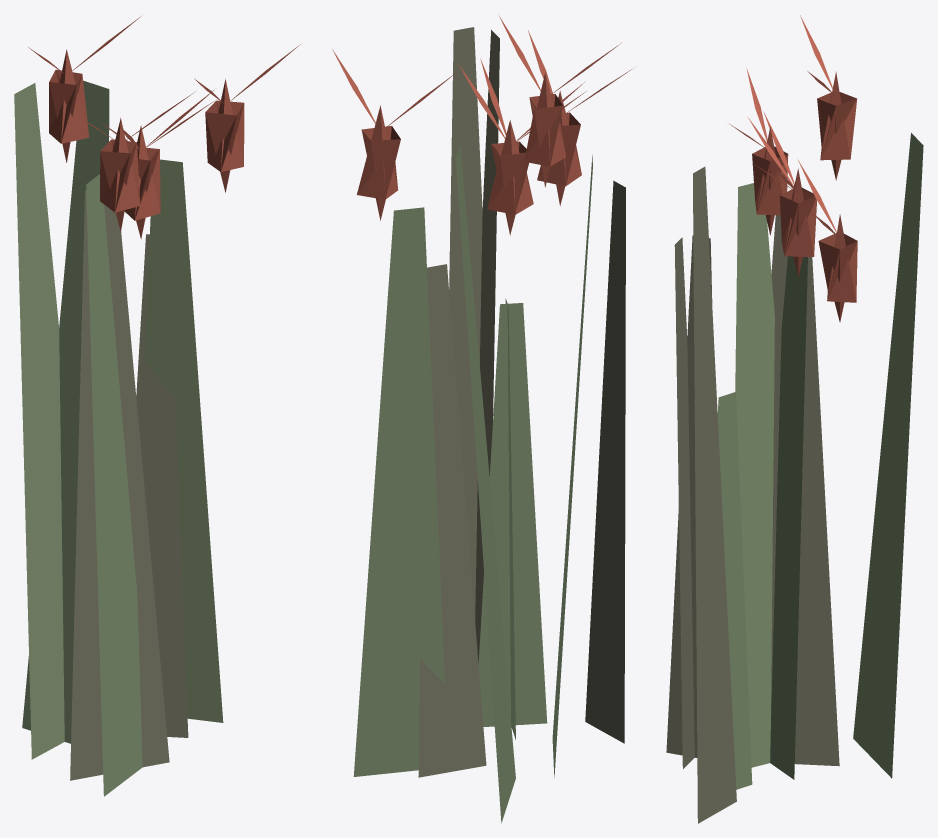
Rendered from cao.luwei@fruiting__winter.glb.
3 renders of one model, left to right at view 1: azimuth 30°, elevation 25°; view 2: azimuth 150°, elevation 25°; view 3: azimuth 270°, elevation 25°, orthographic. The views are drawn at different scales.
Visible parts, largest first — view 1: cao.luwei@fruiting__winter; view 2: cao.luwei@fruiting__winter; view 3: cao.luwei@fruiting__winter.
Part boxes in pixels (<box>): cao.luwei@fruiting__winter: <box>14,16,300,796</box>; cao.luwei@fruiting__winter: <box>332,16,631,823</box>; cao.luwei@fruiting__winter: <box>666,15,923,823</box>.
Size of the model in its own units: 1.07 by 2.69 by 0.8822.
